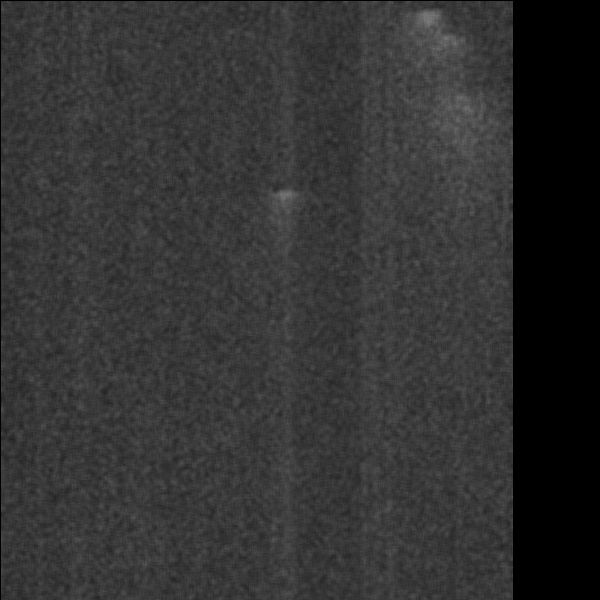spark: (340, 154, 400, 237), (274, 513, 325, 575)
